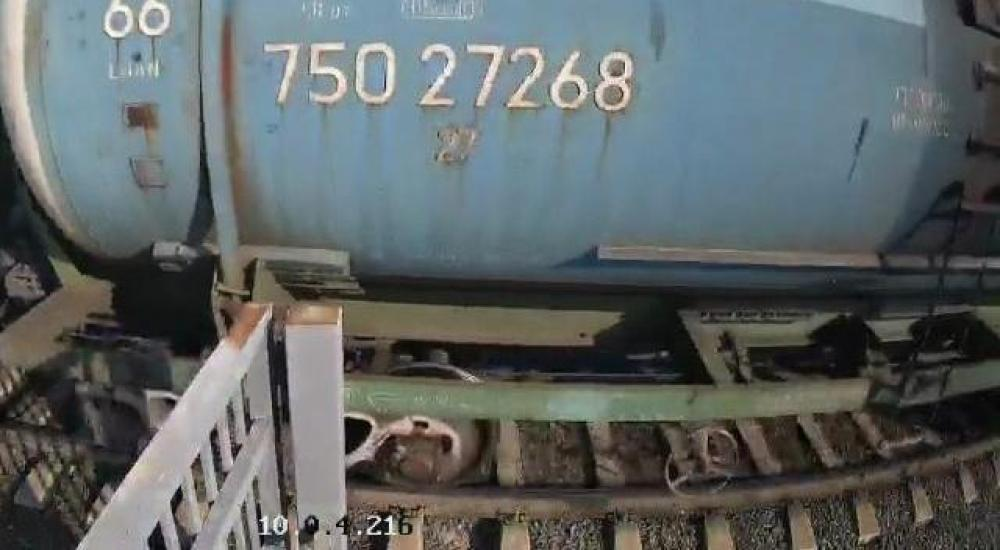Wagon-number: (249, 30, 642, 114)
